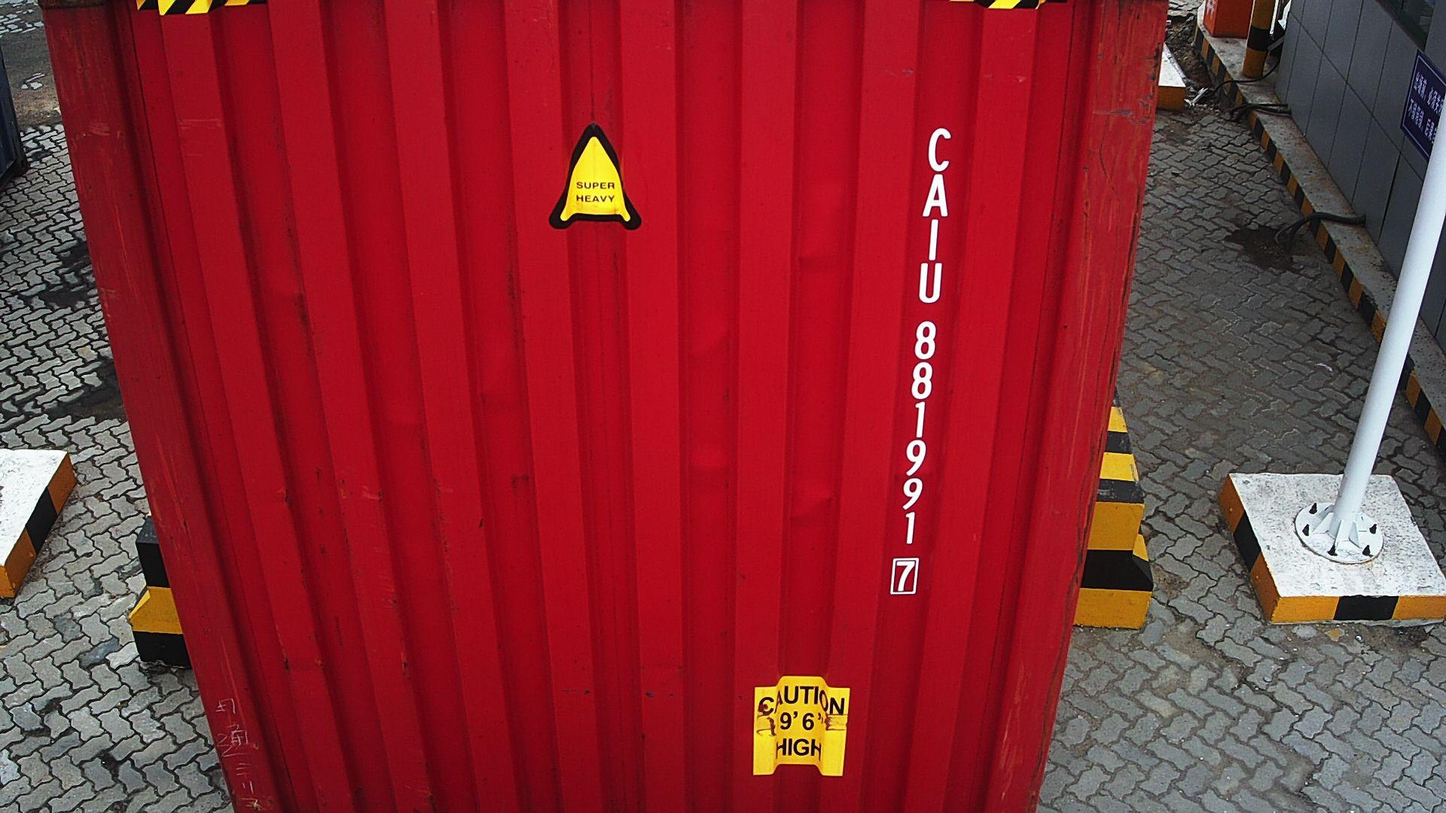container-numbers: (887, 117, 956, 604)
